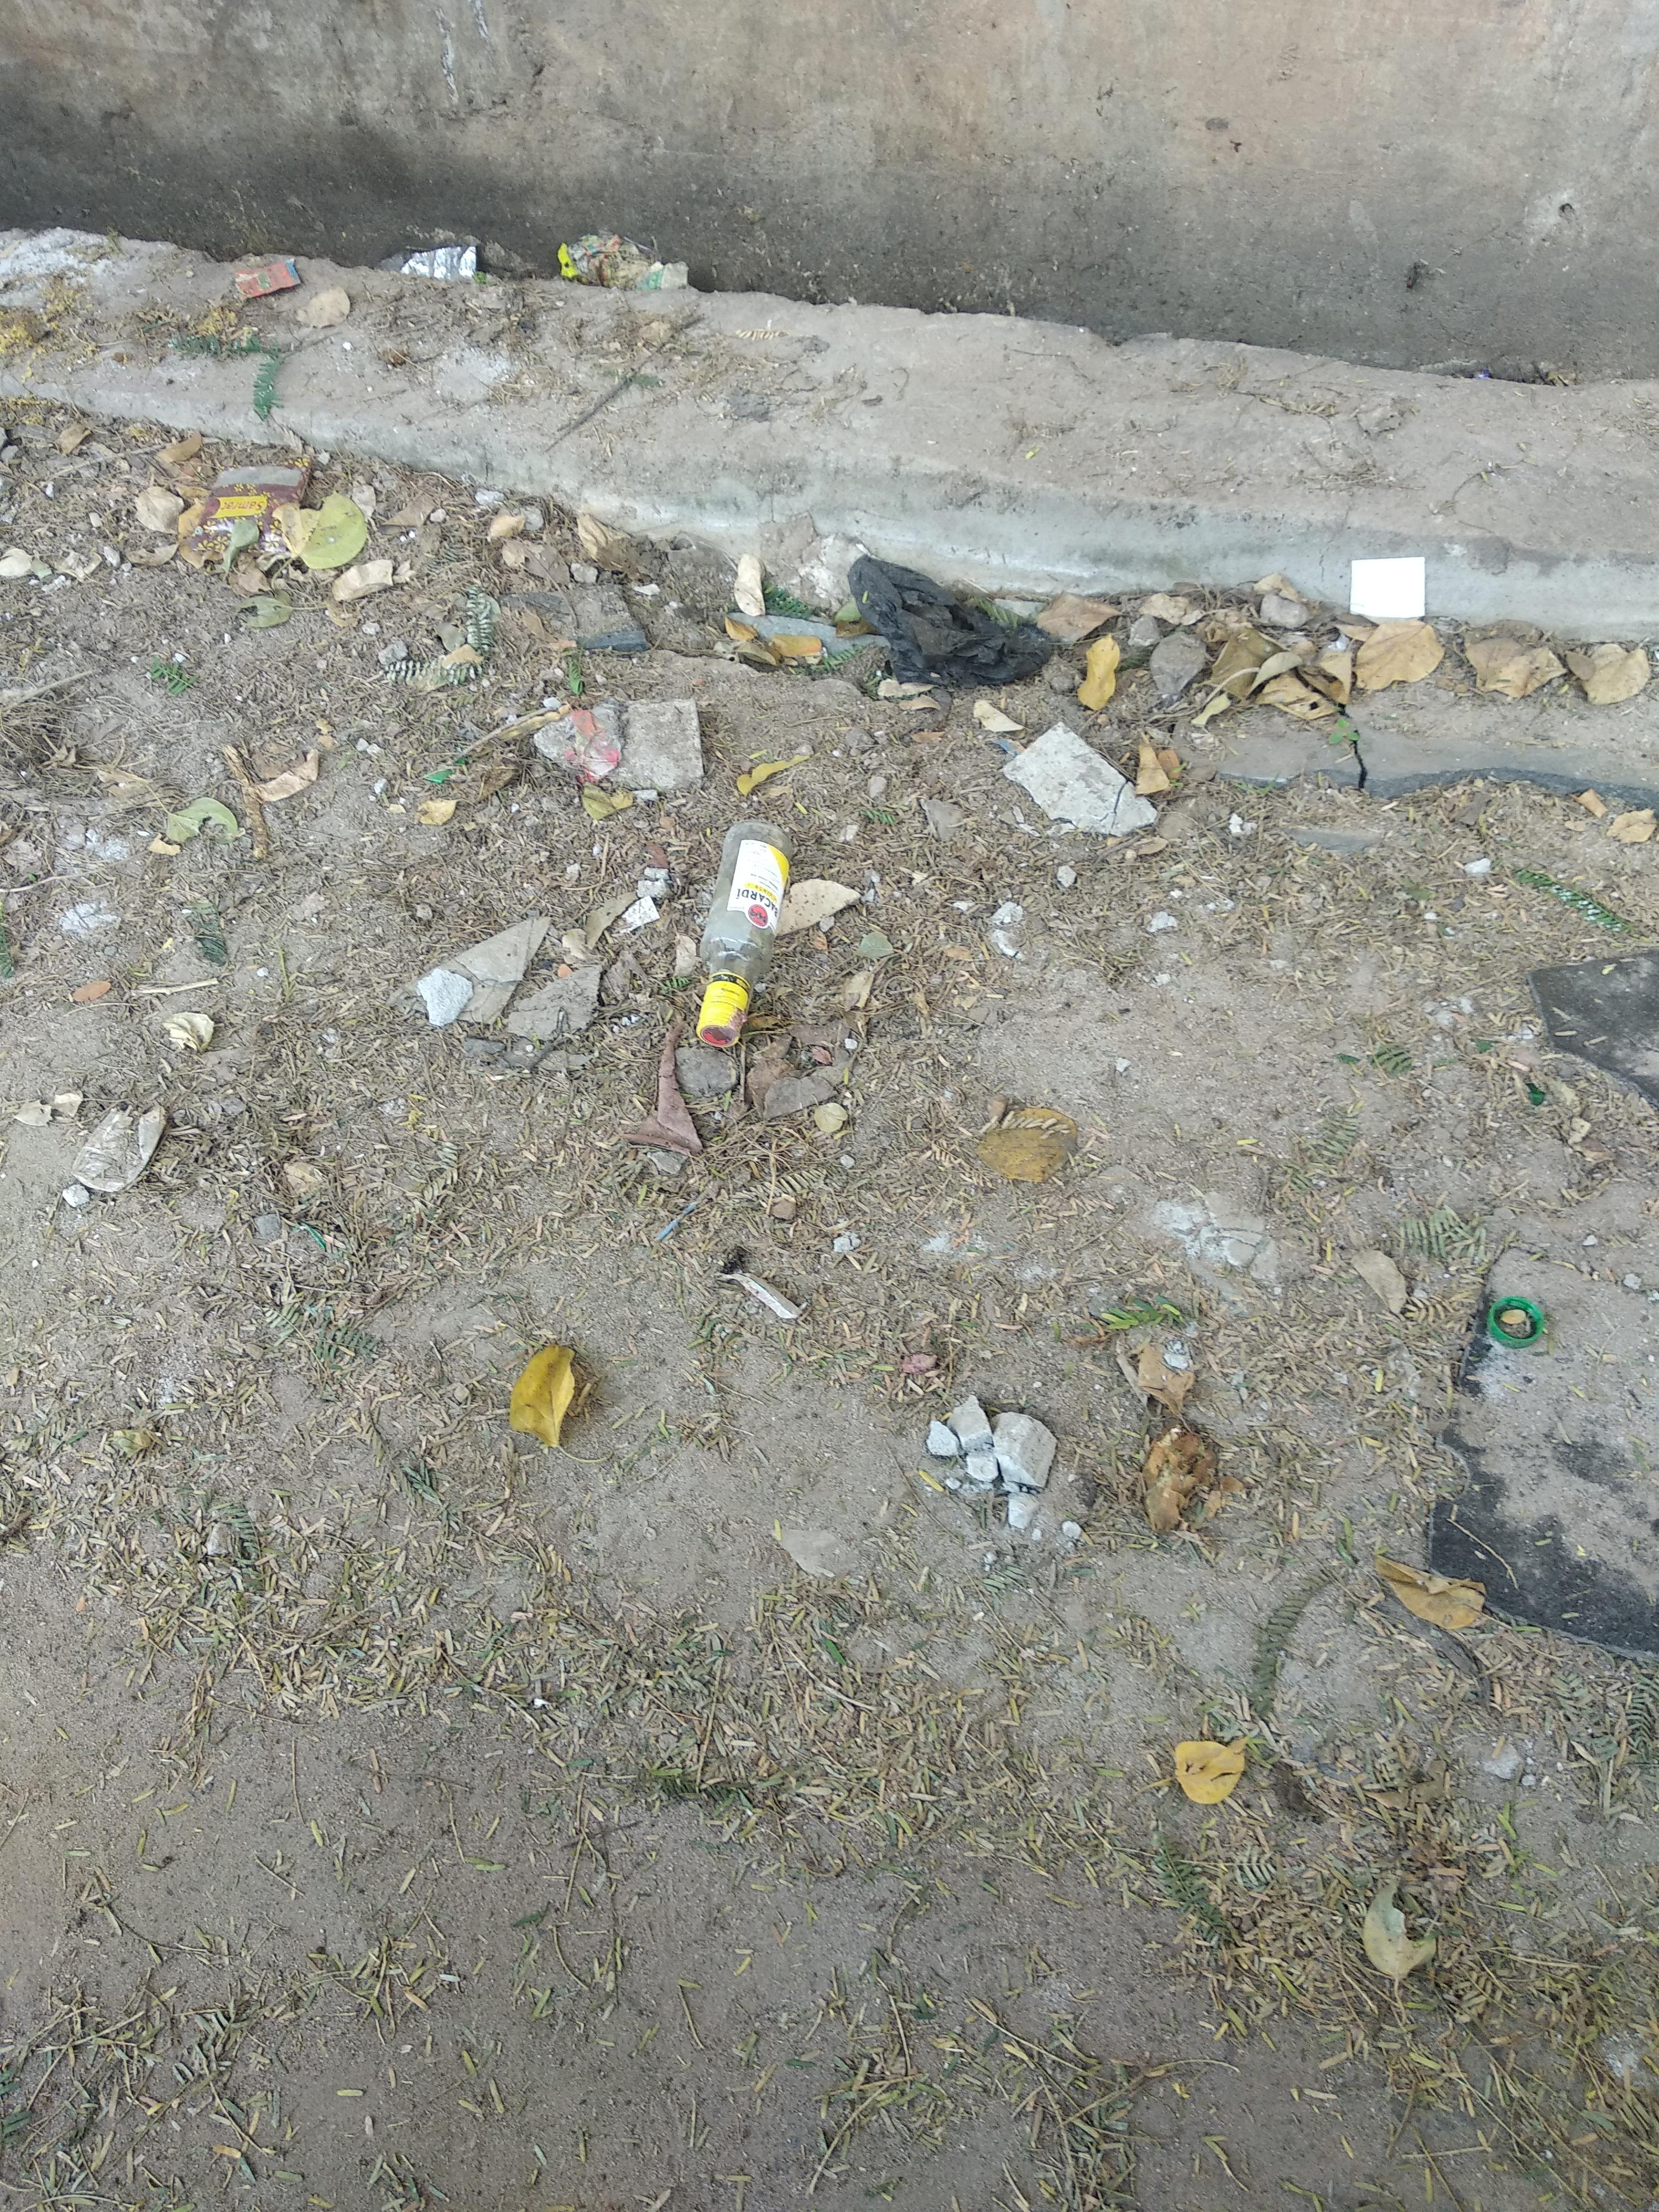organic: (671, 526, 1432, 1089)
